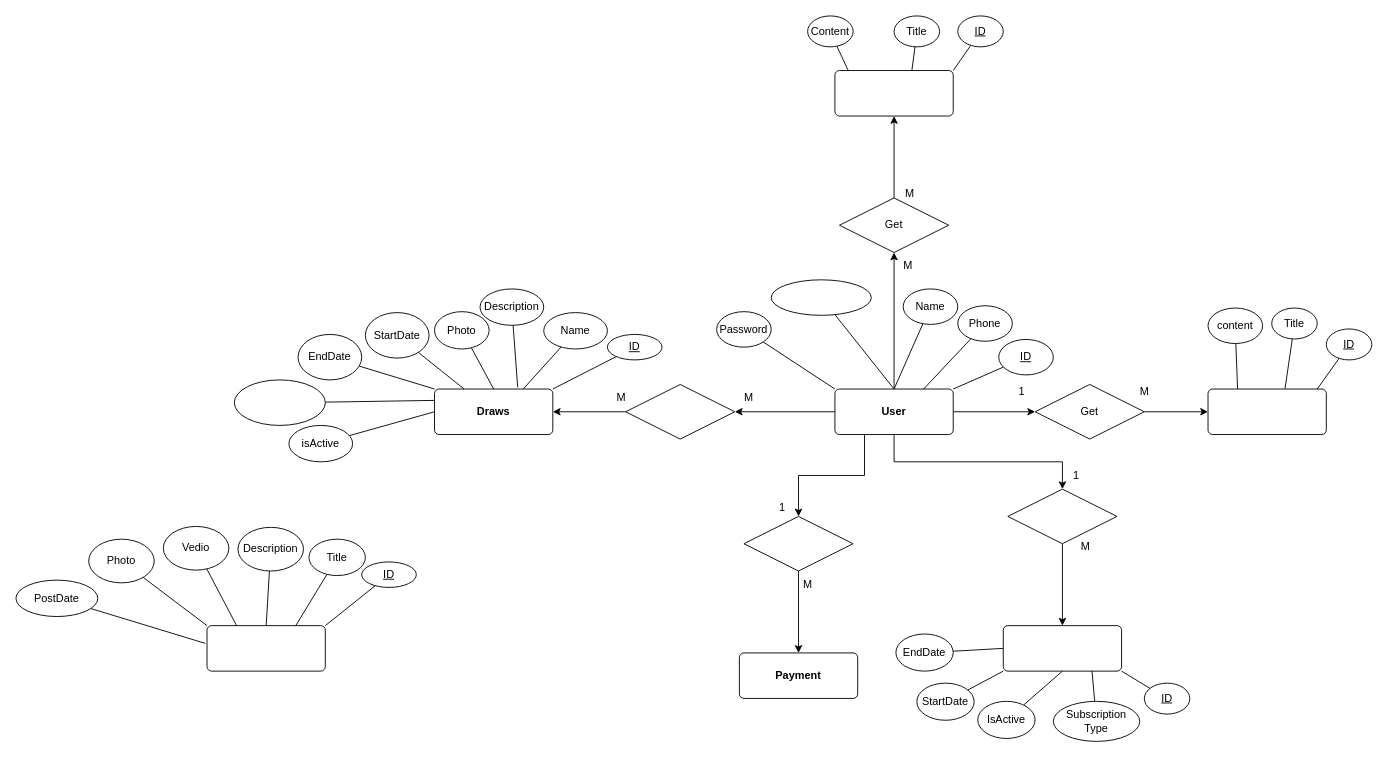
This 1388x758 diagram has some shape labels left out. Each missing label, with the centre of its shape:
Compete: point 680,411
isSubscribesd: point 820,297
Messages: point 893,93
Notifications: point 1266,411
pay: point 798,543
PeopleNumber: point 279,402
Post: point 265,648
Subscriptions: point 1062,648
Take: point 1062,516
